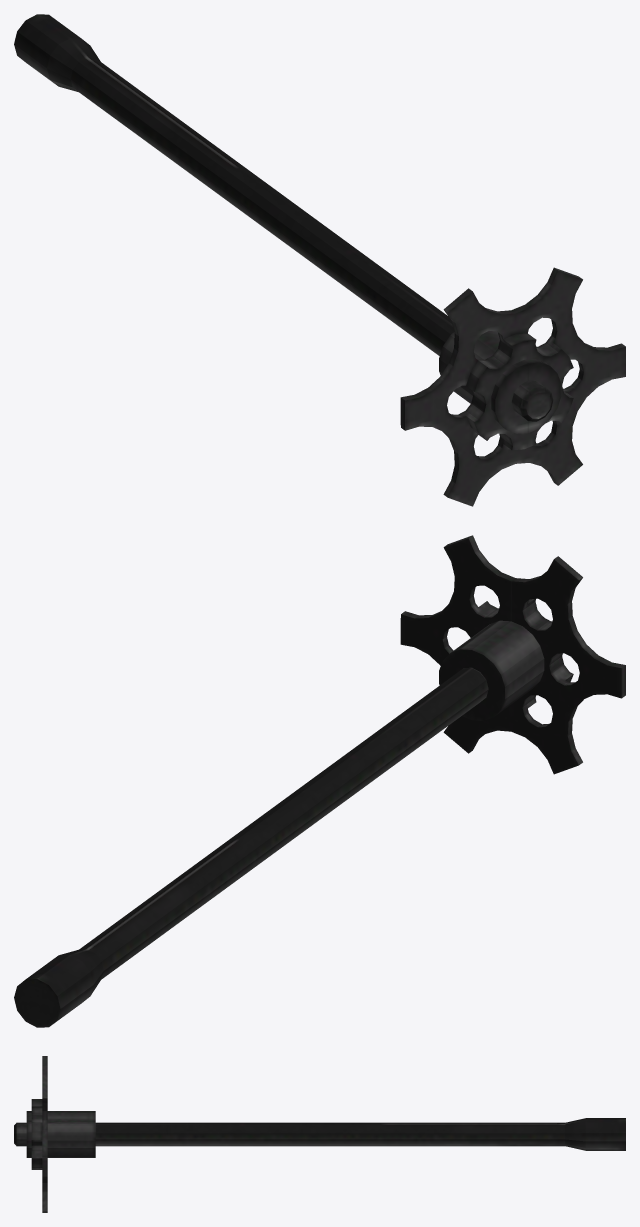
3 views of the same model, one above another, from view 1: azimuth 30°, elevation 25°; view 2: azimuth 150°, elevation 25°; view 3: azimuth 270°, elevation 25° (orthographic). The views are drawn at different scales.
Visible parts, largest first — view 1: TW_61a4c8884f95bc3b2c5dc96f_PZ_Import; view 2: TW_61a4c8884f95bc3b2c5dc96f_PZ_Import; view 3: TW_61a4c8884f95bc3b2c5dc96f_PZ_Import.
Boxes of the visible parts, left/top/right/bottom form: TW_61a4c8884f95bc3b2c5dc96f_PZ_Import: left=14, top=14, right=625, bottom=506; TW_61a4c8884f95bc3b2c5dc96f_PZ_Import: left=14, top=535, right=625, bottom=1027; TW_61a4c8884f95bc3b2c5dc96f_PZ_Import: left=14, top=1056, right=625, bottom=1212.
Size of the model in its own units: 0.0137 by 0.0539 by 0.0128.
Materials: 1 (1 with a texture image).
